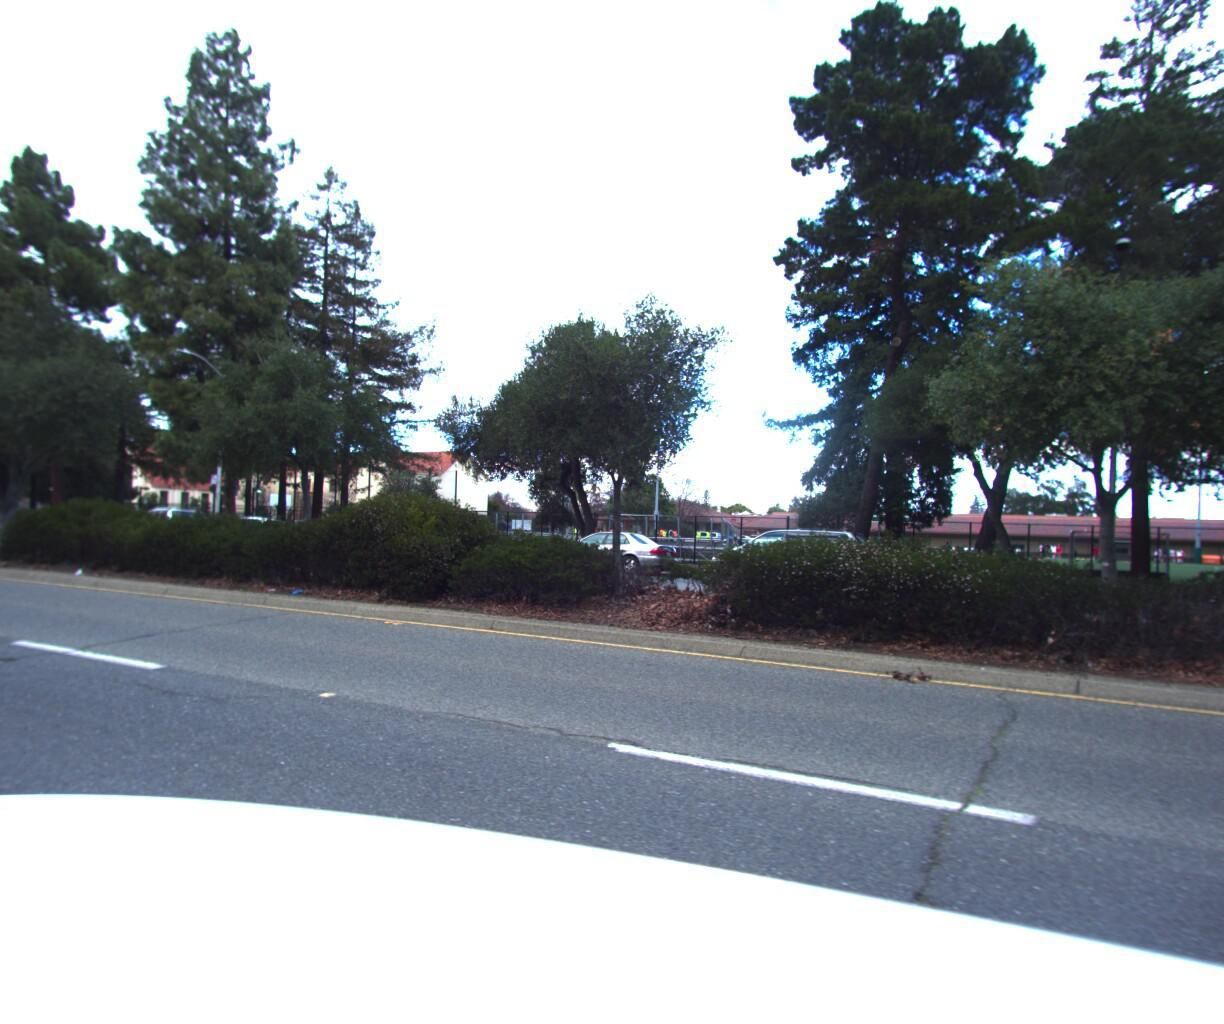car: (702, 518, 888, 593), (535, 520, 684, 576), (195, 506, 298, 547), (117, 499, 212, 537)
